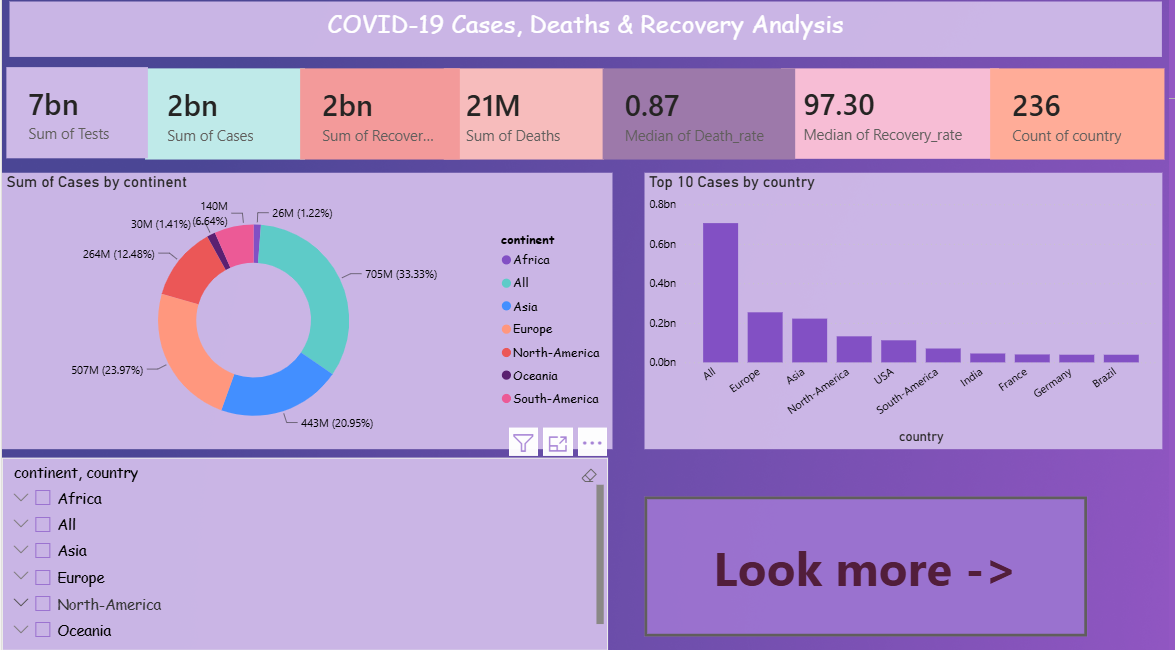

This screenshot's page, from the dashboard's own definition file:
{"tool":"powerbi","page":{"name":"Page 1","canvas":[1280,720],"ordinal":0},"visuals":[{"type":"cardVisual","fields":{"Data":["Sum(covid_19.Cases)"]},"box":[151.7,76.7,185,110],"z":0},{"type":"cardVisual","fields":{"Data":["Sum(covid_19.Deaths)"]},"box":[480,76.7,185,110],"z":1000},{"type":"cardVisual","fields":{"Data":["Sum(covid_19.Recovered)"]},"box":[321.7,76.7,185,110],"z":2000},{"type":"cardVisual","fields":{"Data":["Sum(covid_19.Tests)"]},"box":[0,75.7,165.7,110],"z":3000},{"type":"cardVisual","fields":{"Data":["Median(covid_19.Recovery_rate)"]},"box":[850,76.8,248.2,109.7],"z":4000},{"type":"cardVisual","fields":{"Data":["Median(covid_19.Death_rate)"]},"box":[653.3,76.7,221.7,110],"z":5000},{"type":"cardVisual","fields":{"Data":["Count(covid_19.country)"]},"box":[1078.3,76.7,201.7,110],"z":6000},{"type":"textbox","box":[7.9,7.9,1264.1,61.1],"z":7000},{"type":"donutChart","fields":{"Y":["Sum(covid_19.Cases)"],"Series":["covid_19.continent"]},"box":[0,195.6,669.4,303],"z":8000},{"type":"clusteredColumnChart","title":"Top 10 Cases by country","fields":{"Category":["covid_19.country"],"Y":["Sum(covid_19.Cases)"]},"box":[704.7,196.1,567.6,303],"z":9000},{"type":"slicer","fields":{"Values":["covid_19.continent","covid_19.country"]},"box":[0,508.7,665,211.1],"z":10000},{"type":"actionButton","box":[704.7,551.2,485.4,153.6],"z":11000}]}

Visuals, with their boxes in screenshot pixels (x1, y1, x2, y2), scaled from the page's 1280x720 canvas onto the 1175x650 screenshot:
cardVisual - Sum(covid_19.Cases): detection(139, 69, 309, 169)
cardVisual - Sum(covid_19.Deaths): detection(441, 69, 610, 169)
cardVisual - Sum(covid_19.Recovered): detection(295, 69, 465, 169)
cardVisual - Sum(covid_19.Tests): detection(0, 68, 152, 168)
cardVisual - Median(covid_19.Recovery_rate): detection(780, 69, 1008, 168)
cardVisual - Median(covid_19.Death_rate): detection(600, 69, 803, 169)
cardVisual - Count(covid_19.country): detection(990, 69, 1174, 169)
textbox: detection(7, 7, 1168, 62)
donutChart - Sum(covid_19.Cases) x covid_19.continent: detection(0, 177, 614, 450)
"Top 10 Cases by country" clusteredColumnChart: detection(647, 177, 1168, 451)
slicer - covid_19.continent x covid_19.country: detection(0, 459, 610, 649)
actionButton: detection(647, 498, 1092, 636)
